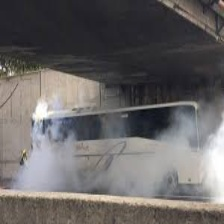smoke: (13, 142, 224, 206)
